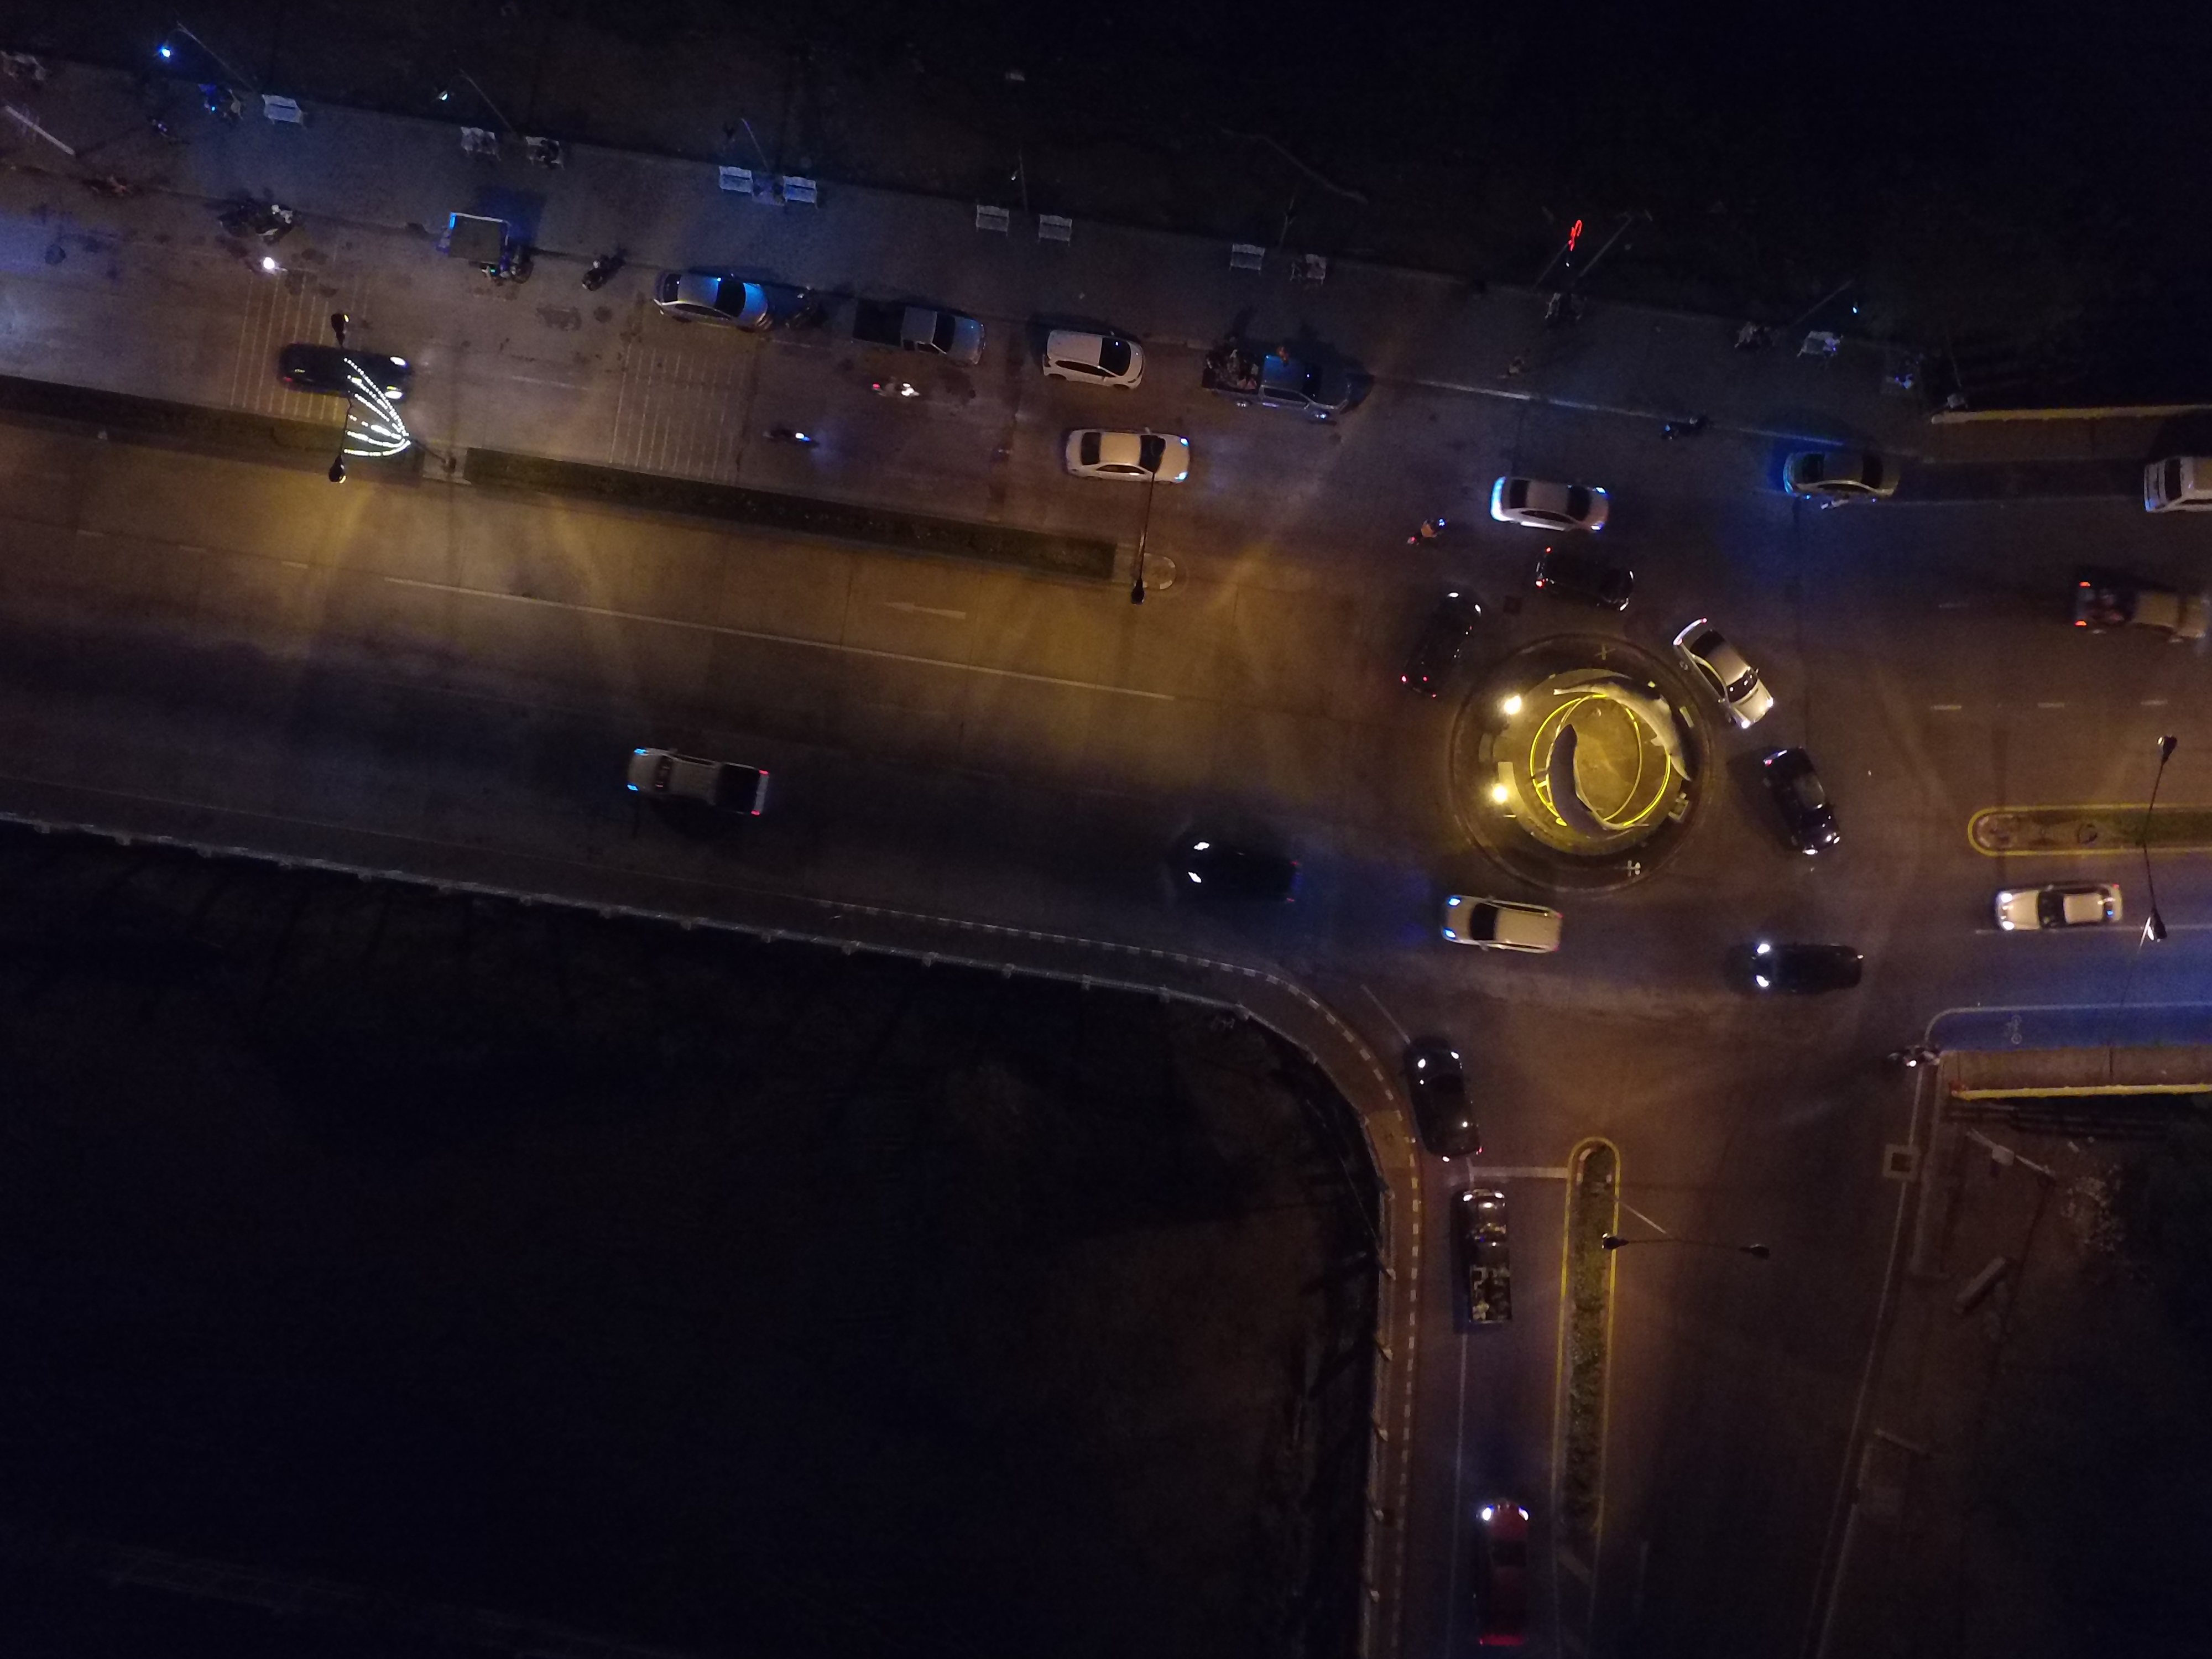car: (907, 185, 1024, 286), (967, 333, 1073, 437), (1310, 197, 1393, 324), (1271, 0, 1355, 125), (1332, 0, 1416, 125), (1332, 362, 1440, 458), (1064, 211, 1148, 333), (1916, 101, 1994, 228), (1752, 139, 1829, 268), (988, 0, 1073, 113), (1024, 99, 1109, 213), (1855, 120, 1930, 240), (946, 295, 1047, 382), (860, 0, 972, 78), (871, 33, 982, 112), (892, 89, 1003, 167), (883, 146, 995, 225), (1757, 268, 1865, 345), (1655, 295, 1763, 371), (1867, 234, 1973, 310), (1386, 136, 1475, 225), (1975, 213, 2080, 288), (930, 247, 1029, 324), (1806, 124, 1874, 232), (1644, 157, 1710, 265), (1700, 152, 1766, 260), (1487, 195, 1552, 305), (1541, 179, 1606, 288), (1594, 171, 1658, 279), (1972, 98, 2033, 211), (1393, 216, 1456, 326), (1541, 315, 1642, 383), (1444, 326, 1545, 394), (1381, 0, 1456, 87), (1496, 0, 1571, 87), (1437, 0, 1510, 87), (1597, 0, 1667, 59), (1554, 0, 1606, 61)
